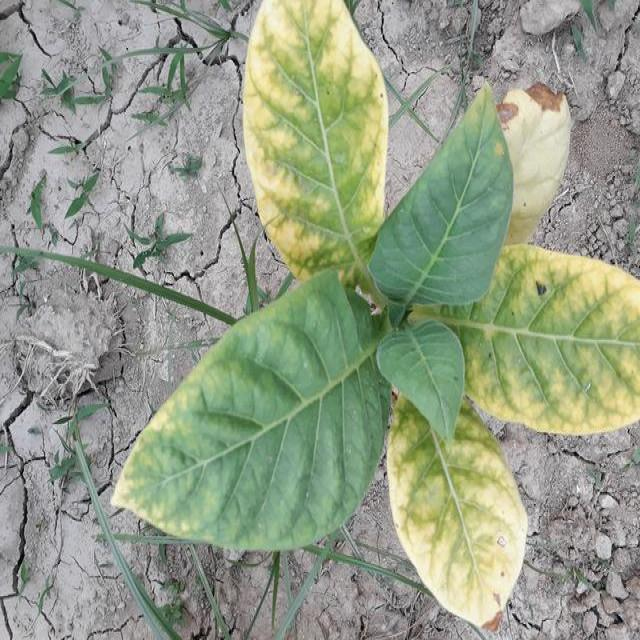crop: (113, 0, 640, 630)
